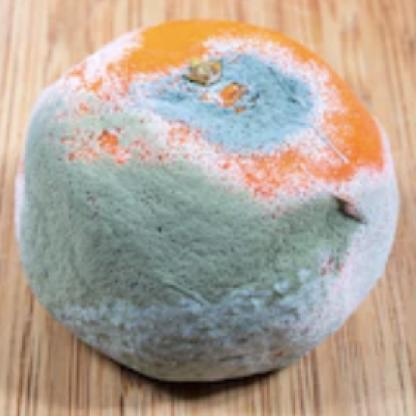rotten: (17, 20, 400, 381)
